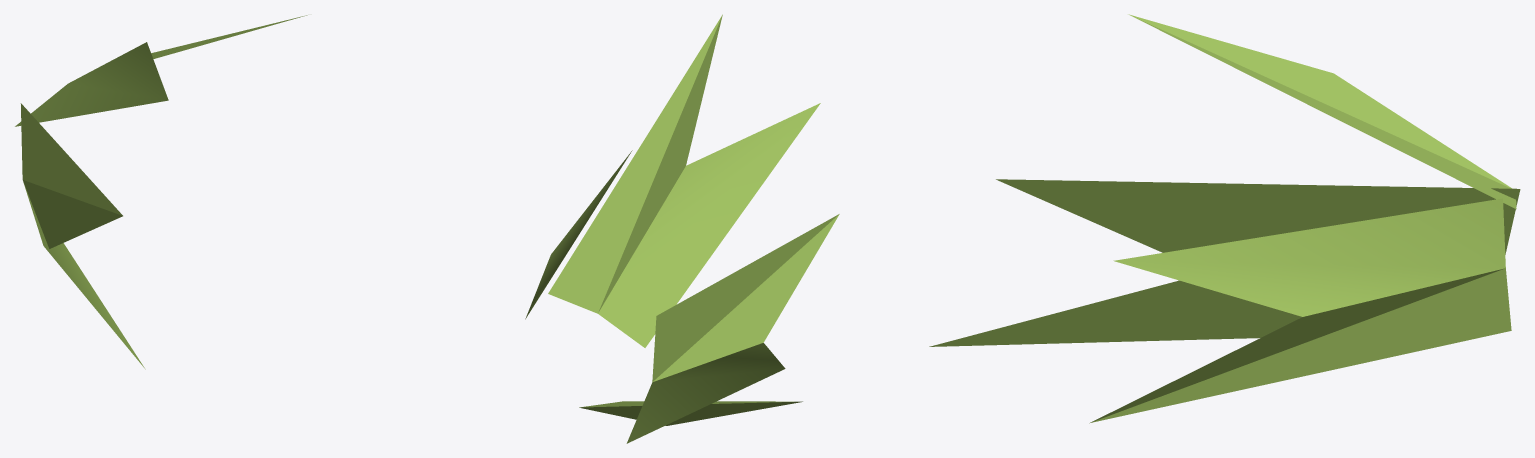
The model's file is grass3.gltf.
3 views of the same model, side by side, from view 1: azimuth 30°, elevation 25°; view 2: azimuth 150°, elevation 25°; view 3: azimuth 270°, elevation 25° (orthographic). The views are drawn at different scales.
Visible parts, largest first — view 1: Grass_2_1; view 2: Grass_2_1; view 3: Grass_2_1.
Boxes of the visible parts, x1=… form: Grass_2_1: x1=15, y1=15, x2=307, y2=369; Grass_2_1: x1=525, y1=14, x2=839, y2=443; Grass_2_1: x1=929, y1=14, x2=1520, y2=423.
Size of the model in its own units: 0.601 by 0.7737 by 0.9925.
